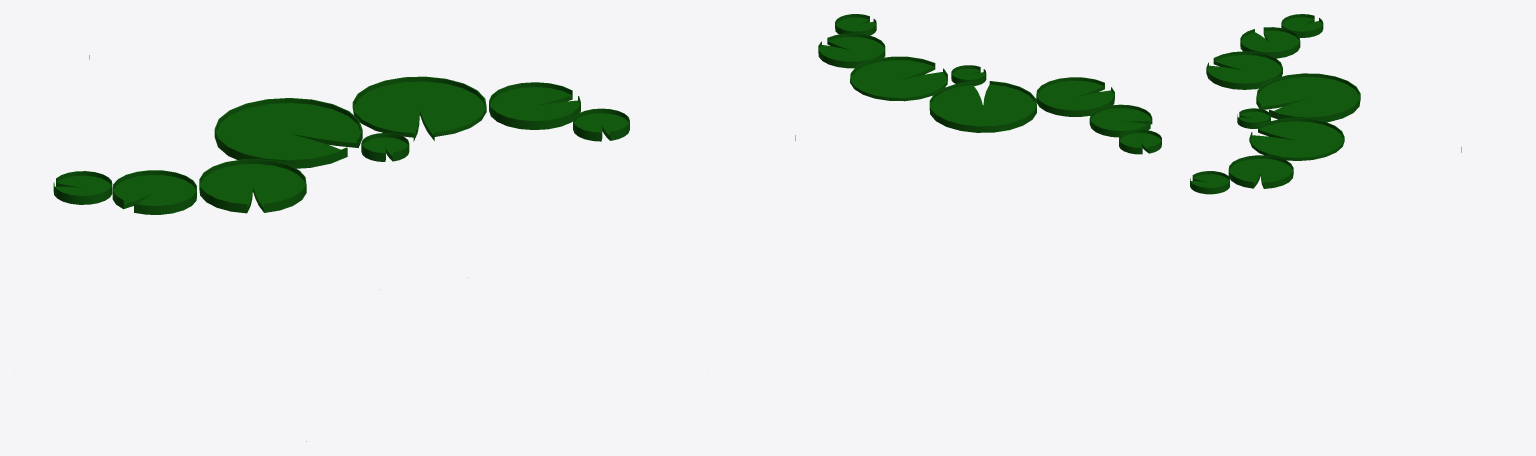
The model's file is lily_pad_3.glb.
3 views of the same model, side by side, from view 1: azimuth 30°, elevation 25°; view 2: azimuth 150°, elevation 25°; view 3: azimuth 270°, elevation 25° (orthographic). The views are drawn at different scales.
Visible parts, largest first — view 1: Object_2.032; view 2: Object_2.032; view 3: Object_2.032.
Part boxes in pixels (x1,y1,x2,y2): Object_2.032: (53,76,629,441); Object_2.032: (818,14,1161,154); Object_2.032: (1190,14,1360,194).
Size of the model in its own units: 7.14 by 3.77 by 4.99.
Materials: 1 (1 with a texture image).
